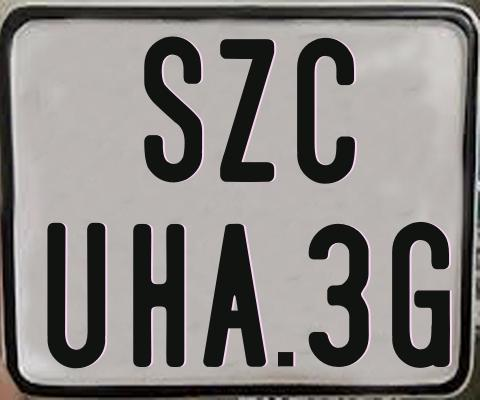3: (307, 222, 371, 367)
A: (203, 224, 270, 372)
C: (297, 37, 358, 184)
G: (389, 221, 450, 367)
H: (133, 221, 189, 367)
S: (144, 36, 204, 187)
U: (45, 221, 103, 370)
Z: (220, 36, 275, 185)
